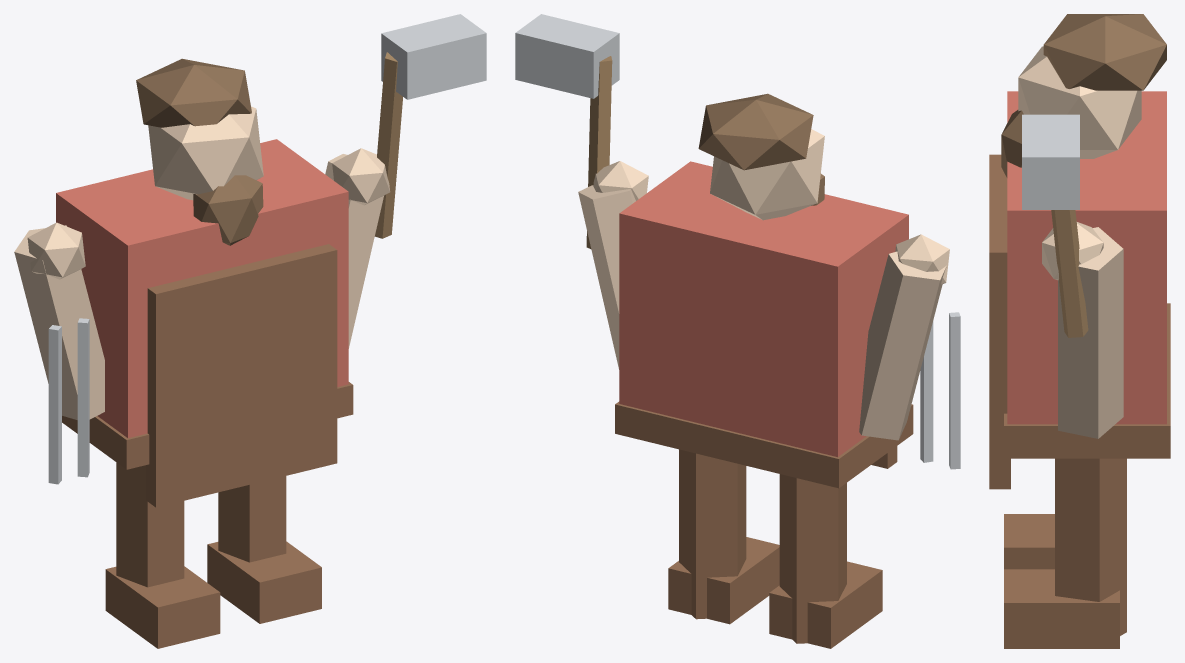
Rendered from npc_blacksmith.glb.
3 views of the same model, side by side, from view 1: azimuth 30°, elevation 25°; view 2: azimuth 150°, elevation 25°; view 3: azimuth 270°, elevation 25° (orthographic). The views are drawn at different scales.
Visible parts, largest first — view 1: apron, torso, head.001, arm_0.001, hammer_head, boot_0, leg_0, boot_1, hair, leg_1, beard, hammer_handle (+6 smaller); view 2: torso, arm_0.001, belt, leg_0, leg_1, hair, hammer_head, head.001, boot_0, boot_1, arm_1.001, hammer_handle (+4 smaller); view 3: torso, leg_1, arm_1.001, hair, boot_1, head.001, apron, belt, hammer_head, hammer_handle, boot_0, hand_1.001 (+1 smaller).
Part boxes in pixels (x1,y1,x2,y2): apron: (146,244,337,507); torso: (56,139,348,438); head.001: (148,106,263,200); arm_0.001: (14,225,104,419); hammer_head: (381,14,486,99); boot_0: (105,566,220,648); leg_0: (116,462,184,587); boot_1: (207,541,321,623); hair: (136,58,251,127); leg_1: (218,476,286,562); beard: (193,175,263,245); hammer_handle: (374,52,402,238); torso: (619,161,908,457); arm_0.001: (859,251,946,440); belt: (615,401,913,488); leg_0: (779,474,846,643); leg_1: (679,449,746,619); hair: (698,93,813,170); hammer_head: (515,14,619,98); head.001: (710,129,824,220); boot_0: (769,561,882,648); boot_1: (668,537,779,624); arm_1.001: (578,185,635,369); hammer_handle: (586,56,612,248); torso: (1007,91,1166,424); leg_1: (1055,458,1126,635); arm_1.001: (1058,227,1123,438); hair: (1043,14,1166,90); boot_1: (1004,569,1119,648); head.001: (1018,46,1141,158); apron: (989,154,1010,489); belt: (1004,303,1170,458); hammer_head: (1022,114,1079,209); hammer_handle: (1051,210,1088,337); boot_0: (1004,514,1054,569); hand_1.001: (1042,222,1103,280).
Bounding box in the file's own units: 1.55 × 1.79 × 0.5.
